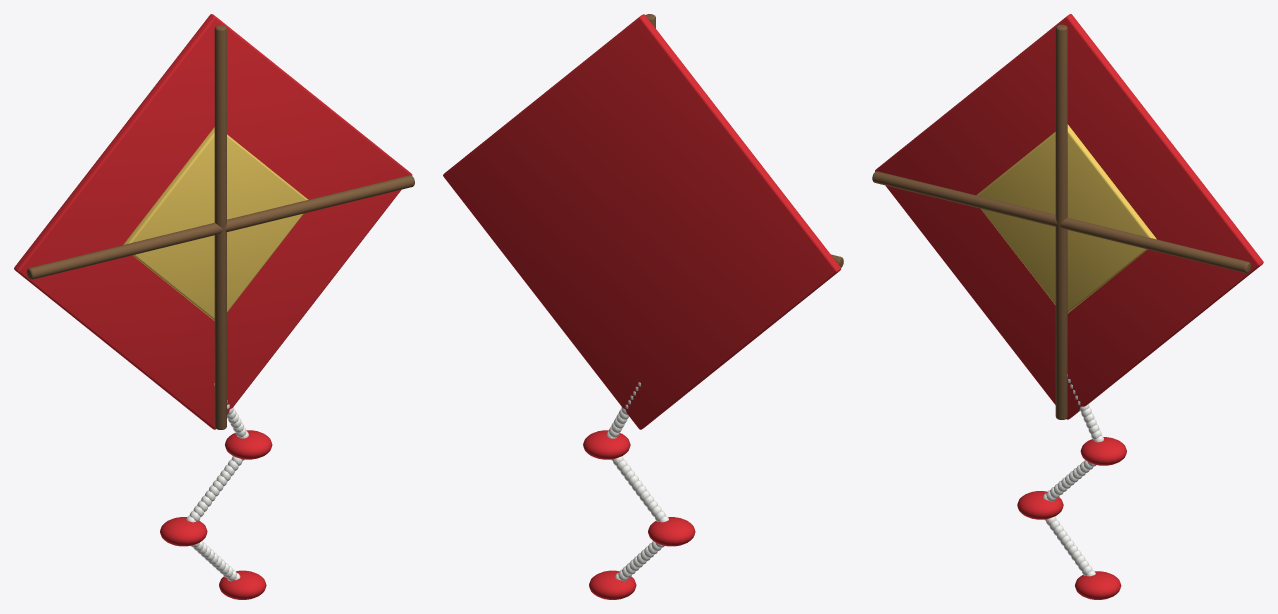
The model's file is kite.glb.
3 views of the same model, side by side, from view 1: azimuth 30°, elevation 25°; view 2: azimuth 150°, elevation 25°; view 3: azimuth 330°, elevation 25° (orthographic). The views are drawn at different scales.
Parts seen in each view (by area): view 1: kite; view 2: kite; view 3: kite.
Boxes of the visible parts, bbox=[...] form: kite: bbox=[14, 14, 414, 599]; kite: bbox=[443, 14, 843, 599]; kite: bbox=[872, 14, 1263, 599].
Size of the model in its own units: 1.34 by 1.9 by 0.14.
